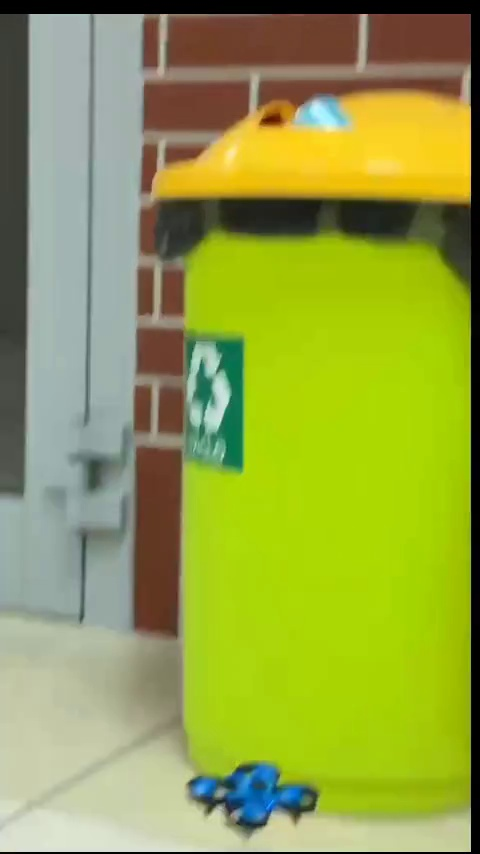drone: (184, 755, 316, 834)
